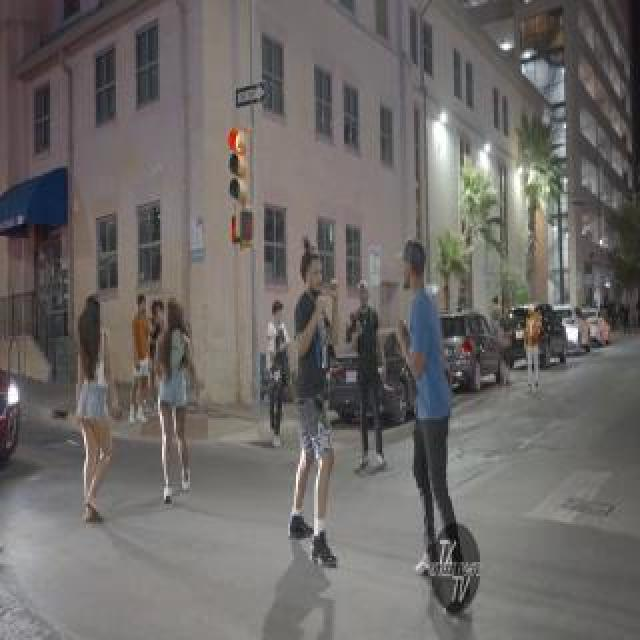fight: (260, 232, 482, 598), (43, 271, 235, 561)
